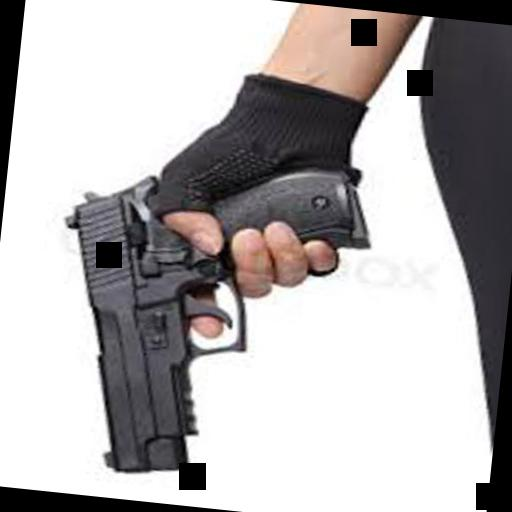Handgun: (33, 136, 377, 496)
